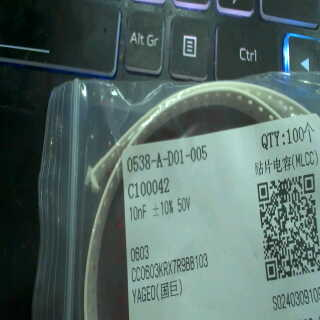10nF: (128, 203, 148, 224)
